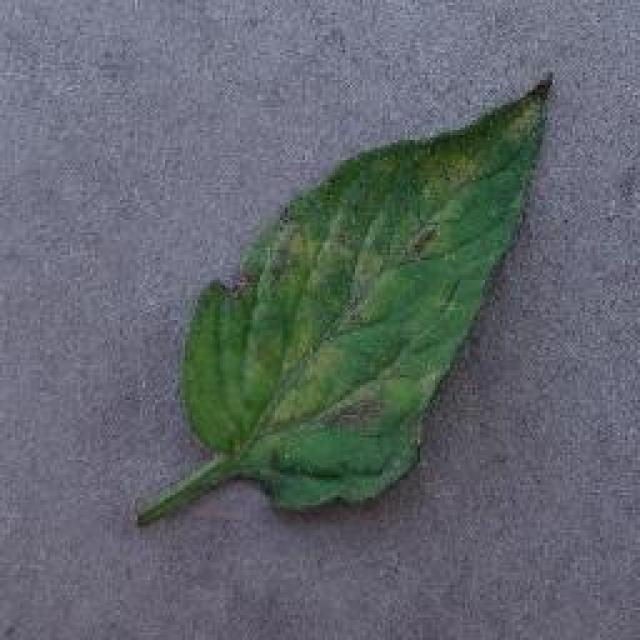Tomato mold leaf: (188, 68, 550, 510)
